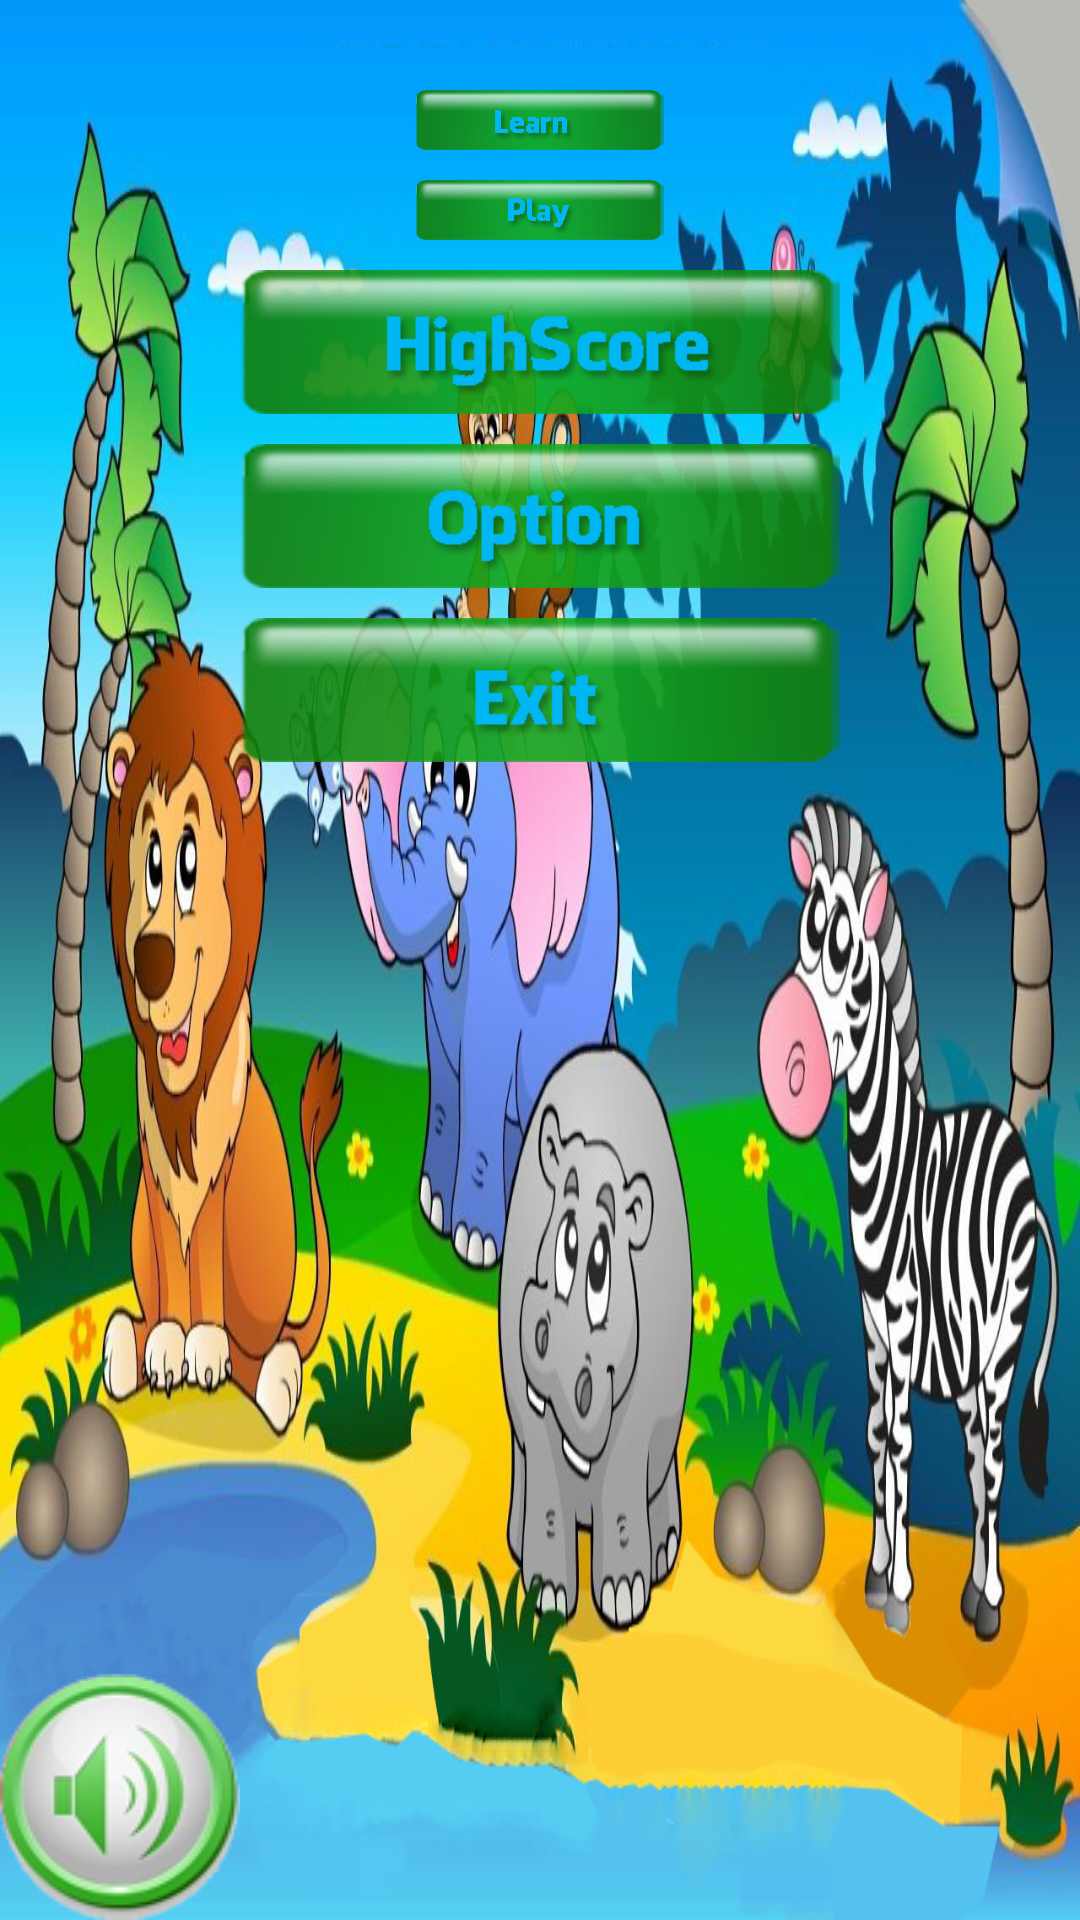

Icon bounding boxes for this 1080w x 1920h phone screenshot, format (x1, y1, x2, y2):
sound: (0, 1674, 240, 1920)
